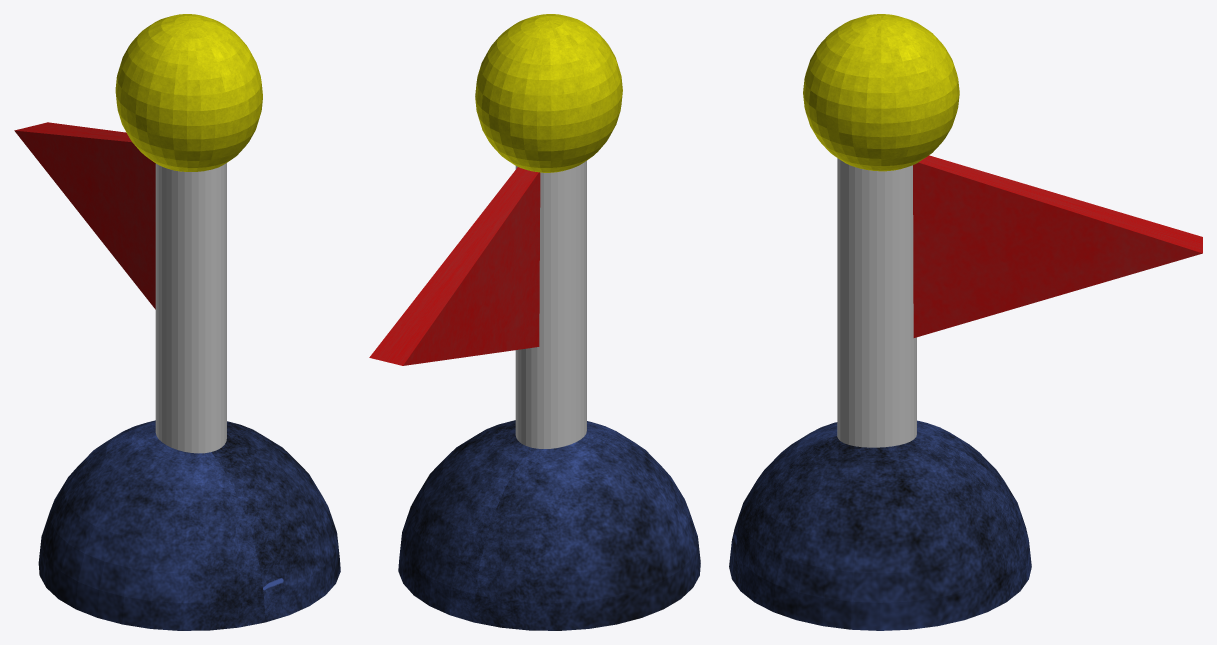
Rendered from goal.obj.
The picture shows the model from 3 angles, left to right: view 1: azimuth 30°, elevation 25°; view 2: azimuth 150°, elevation 25°; view 3: azimuth 270°, elevation 25°; orthographic projection.
Parts seen in each view (by area): view 1: 球; view 2: 球; view 3: 球.
Boxes of the visible parts, left/top/right/bottom form: 球: left=14, top=14, right=340, bottom=630; 球: left=369, top=14, right=700, bottom=630; 球: left=729, top=14, right=1202, bottom=630.
Bounding box in the file's own units: 1 × 1.99 × 1.56.
